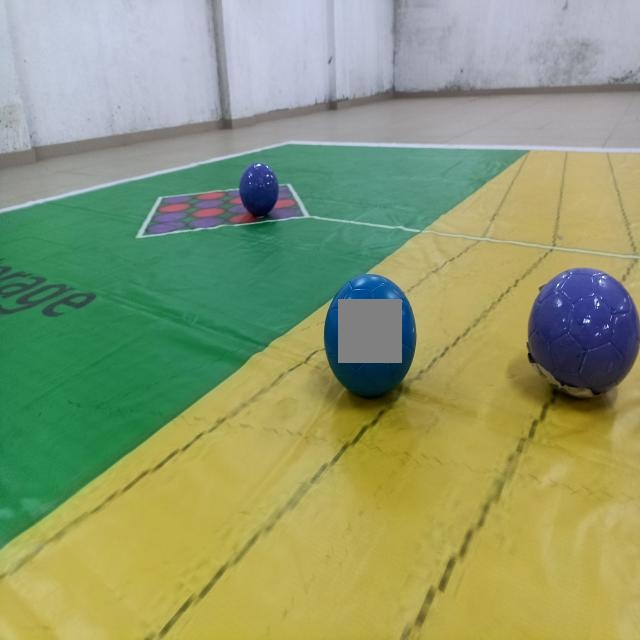blue_ball: (319, 270, 425, 400)
purple_ball: (526, 257, 639, 415), (237, 157, 283, 220)
